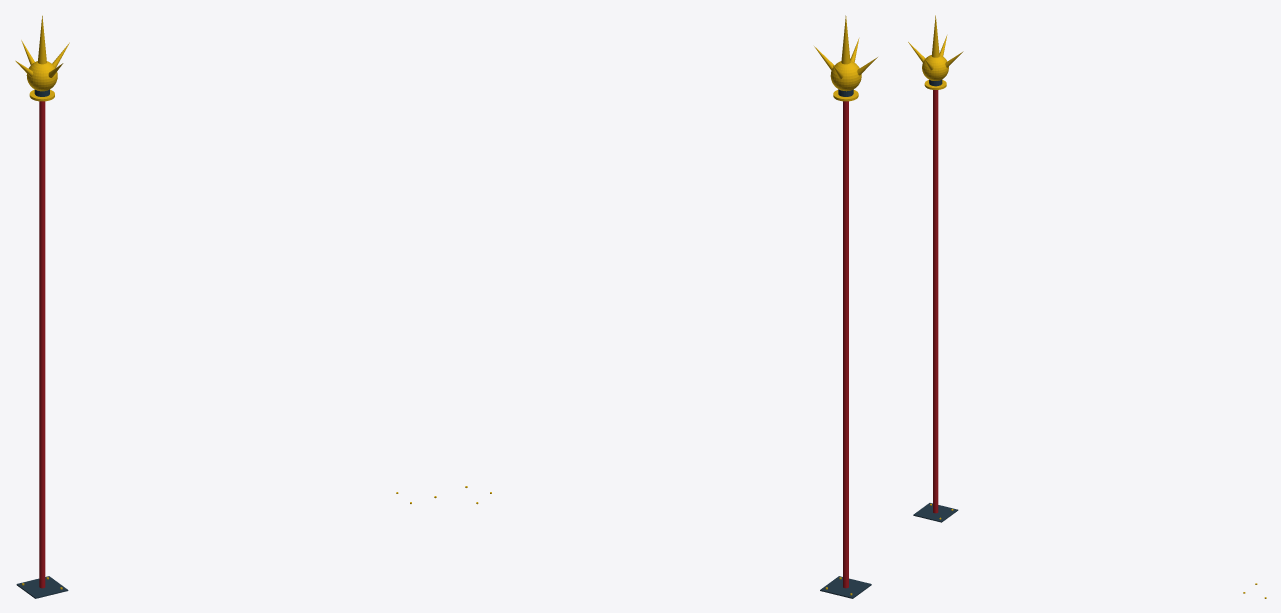
3 views of the same model, side by side, from view 1: azimuth 30°, elevation 25°; view 2: azimuth 150°, elevation 25°; view 3: azimuth 330°, elevation 25° (orthographic). The views are drawn at different scales.
Visible parts, largest first — view 1: _G-Object.032 (Loose Mesh), C-sphere-foot, G-Object.041; view 2: _G-Object.032 (Loose Mesh), C-sphere-foot, G-Object.041; view 3: _G-Object.032 (Loose Mesh), C-sphere-foot, G-Object.041.
Boxes of the visible parts, left/top/right/bottom form: _G-Object.032 (Loose Mesh): left=39, top=101, right=45, bottom=588; C-sphere-foot: left=26, top=61, right=57, bottom=91; G-Object.041: left=16, top=576, right=68, bottom=598; _G-Object.032 (Loose Mesh): left=843, top=101, right=848, bottom=588; C-sphere-foot: left=830, top=61, right=861, bottom=91; G-Object.041: left=820, top=576, right=871, bottom=598; _G-Object.032 (Loose Mesh): left=933, top=90, right=938, bottom=513; C-sphere-foot: left=922, top=55, right=948, bottom=80; G-Object.041: left=913, top=503, right=958, bottom=522.
Bounding box in the file's own units: 3.83 × 5.03 × 0.5563.
3 materials, 1 textured.
